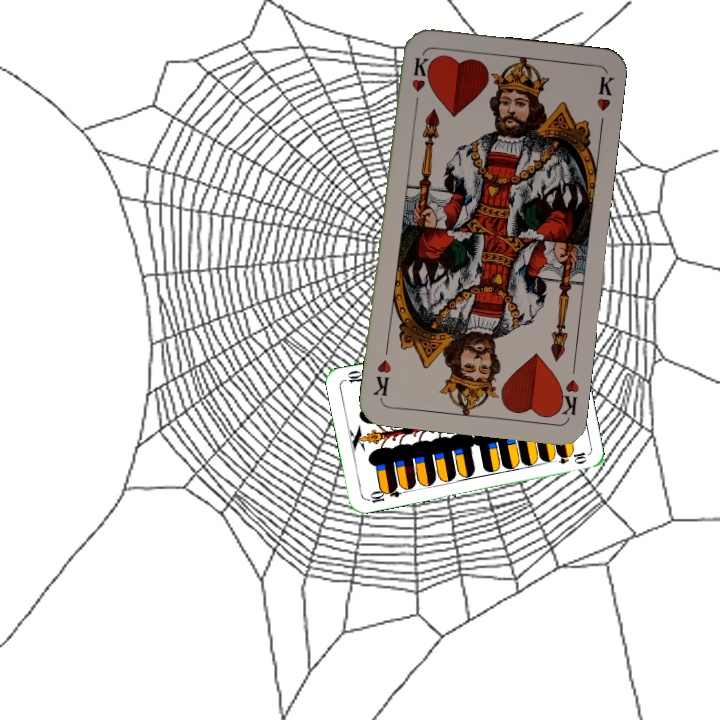E10: (363, 482, 403, 506)
HK: (407, 53, 432, 111), (552, 375, 582, 418)
